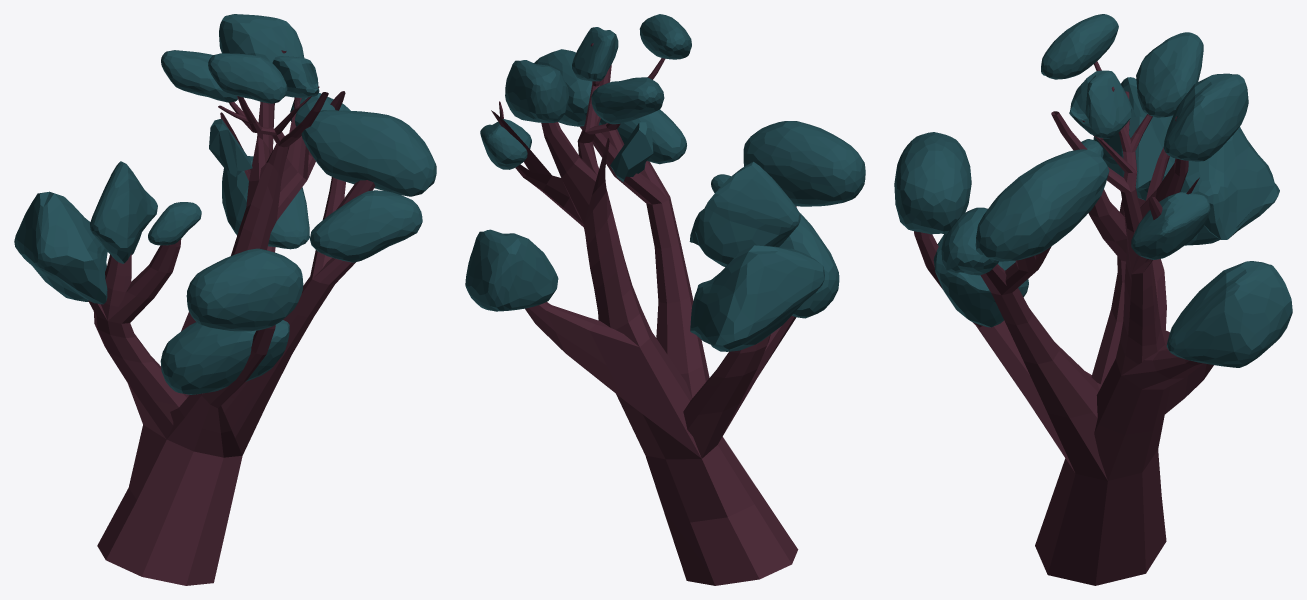
Rendered from treedecor5.fbx.
The picture shows the model from 3 angles, left to right: view 1: azimuth 30°, elevation 25°; view 2: azimuth 150°, elevation 25°; view 3: azimuth 270°, elevation 25°; orthographic projection. The views are drawn at different scales.
Parts seen in each view (by area): view 1: Cube, Icosphere.007; view 2: Cube, Icosphere.007; view 3: Cube, Icosphere.007.
Part boxes in pixels (x1,y1,x2,y2): Cube: (14, 14, 436, 585); Icosphere.007: (209, 118, 252, 177); Cube: (465, 14, 865, 585); Icosphere.007: (610, 122, 653, 182); Cube: (894, 14, 1292, 585); Icosphere.007: (1121, 116, 1162, 191).
Size of the model in its own units: 10119 by 14707 by 9126.
